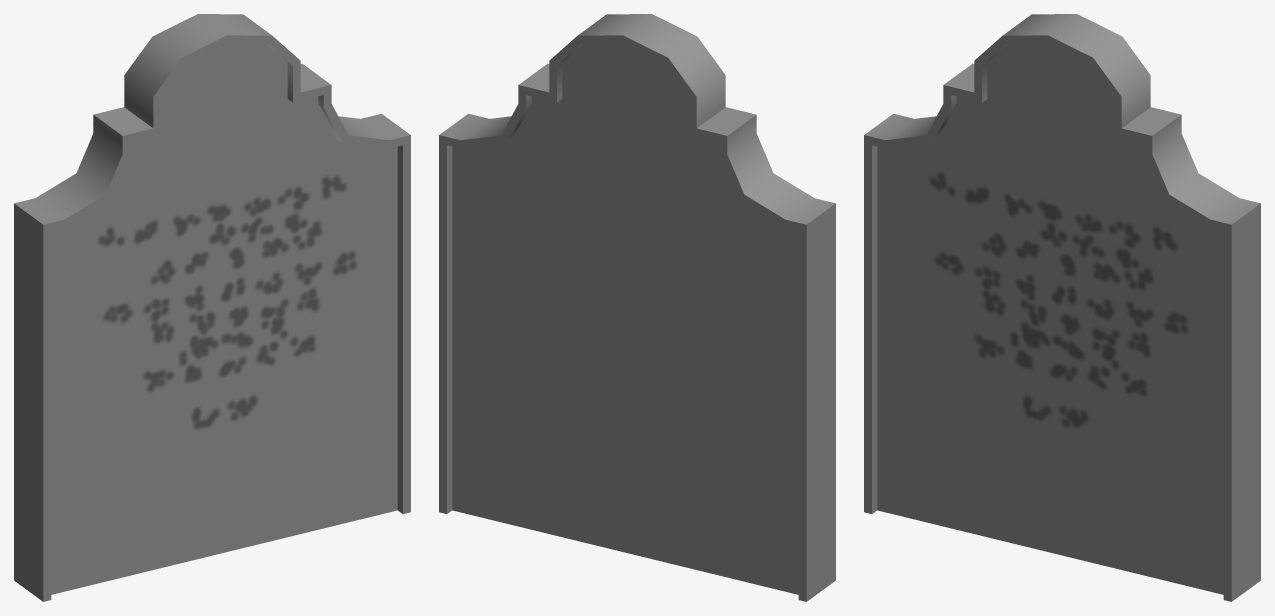
File: Tombstone 3.fbx
The picture shows the model from 3 angles, left to right: view 1: azimuth 30°, elevation 25°; view 2: azimuth 150°, elevation 25°; view 3: azimuth 330°, elevation 25°; orthographic projection.
Visible parts, largest first — view 1: Tombstone 3; view 2: Tombstone 3; view 3: Tombstone 3.
Part boxes in pixels (x1,y1,x2,y2): Tombstone 3: (14,14,410,601); Tombstone 3: (439,14,835,601); Tombstone 3: (864,14,1260,601).
Bounding box in the file's own units: 86.96 × 118 × 11.96.
